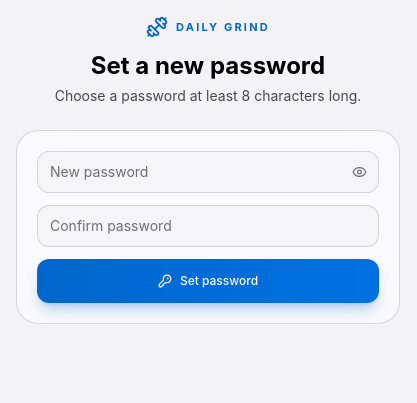
Test: PasswordResetScreen › shows error when password update fails
The width and height of the screenshot is (417, 403).
Type "newpassword1" into the password field with placeholder "New password" at (208, 172), box x1=37 y1=151 x2=379 y2=193
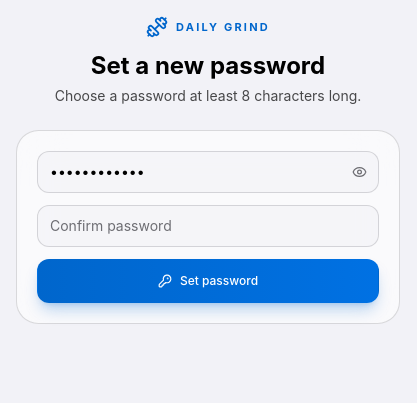
Type "newpassword1" into the password field with placeholder "Confirm password" at (208, 226), box x1=37 y1=205 x2=379 y2=247
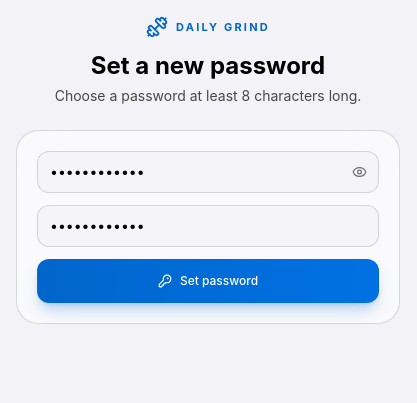
Click the button "Set password" at (208, 281), box x1=37 y1=259 x2=379 y2=303
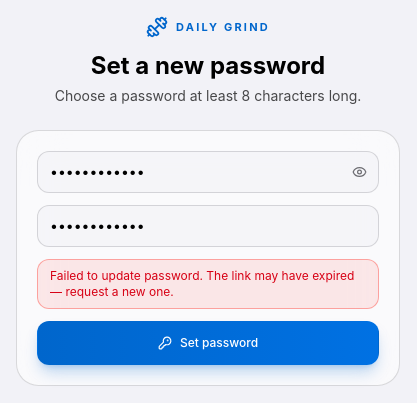
Expected: the text "link may have expired" is shown, x1=50 y1=268 x2=354 y2=299
